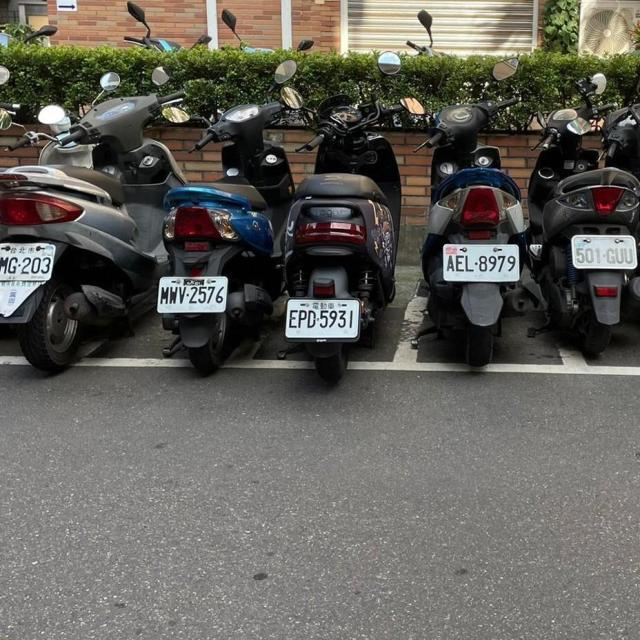W: (437, 240, 524, 284), (282, 296, 362, 343), (151, 272, 232, 317), (565, 230, 640, 270), (0, 238, 58, 283)
